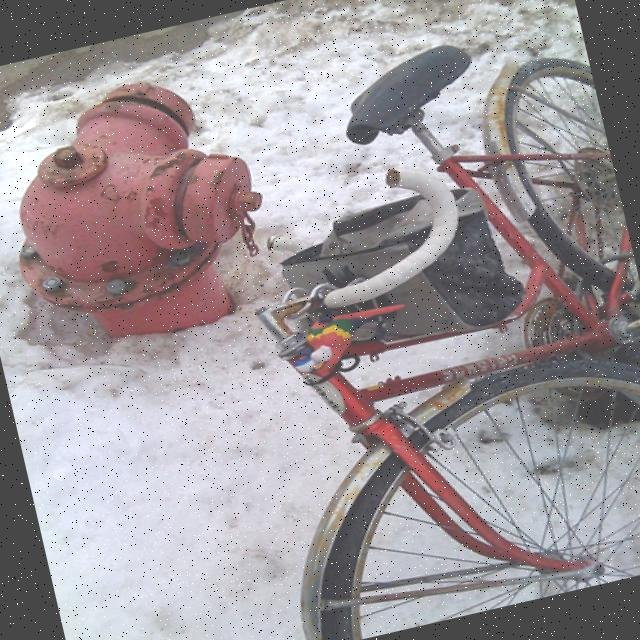fire_hydrant: (0, 48, 291, 356)
